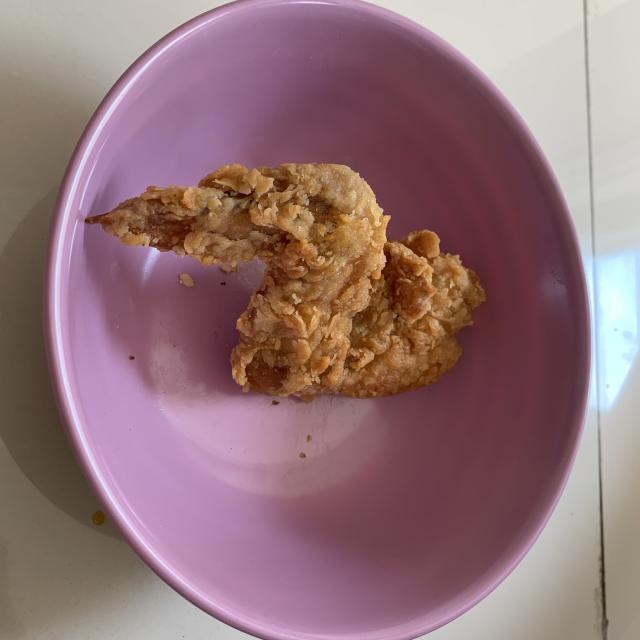Frango: (102, 163, 482, 400)
